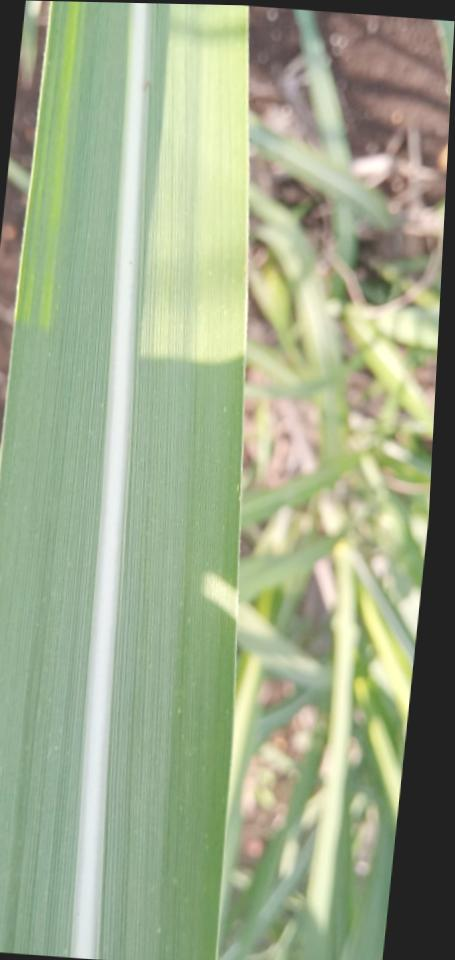Healthy: (0, 1, 249, 960)
